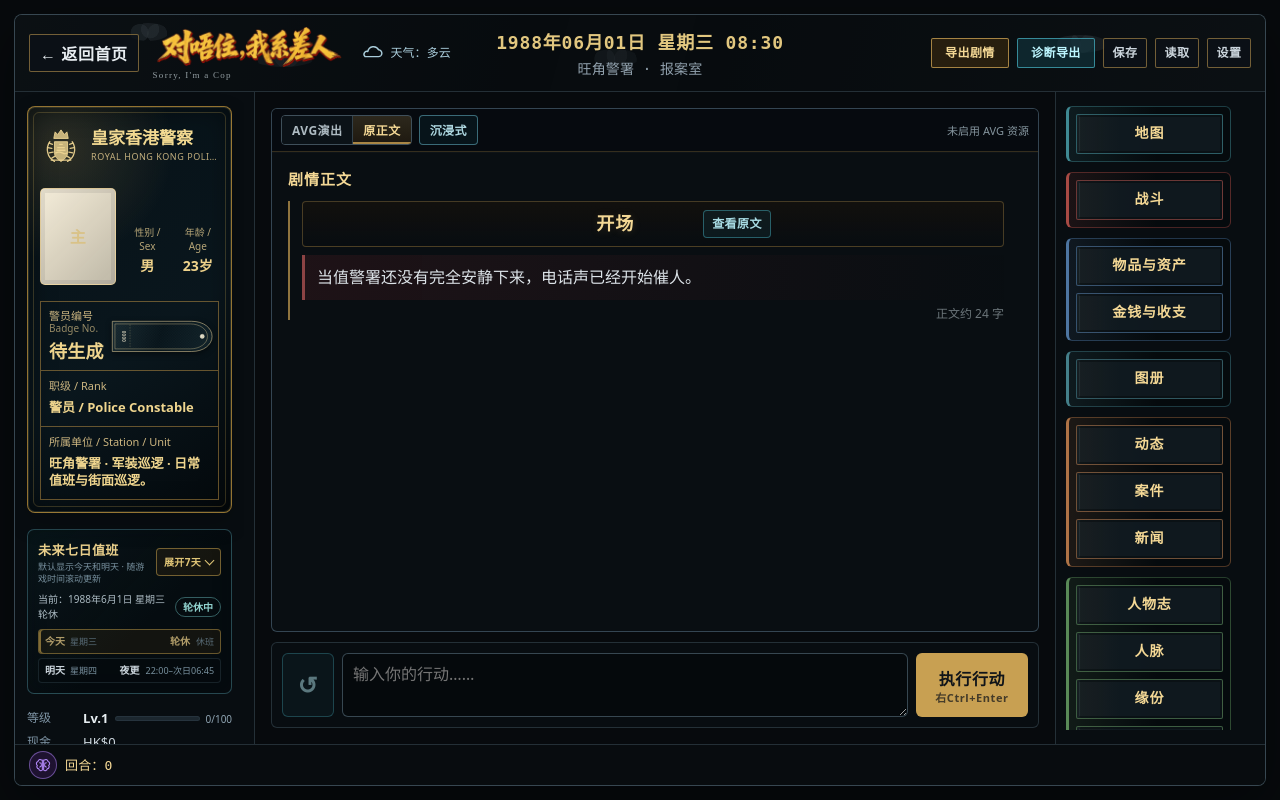
it: GameScreen right panel › opens the AI process trace from the brain button beside the turn counter
Expected: the element "AI 处理轨迹" is not shown
Click the button named "查看 AI 处理轨迹".
click(43, 765)  # box x1=29 y1=751 x2=57 y2=779
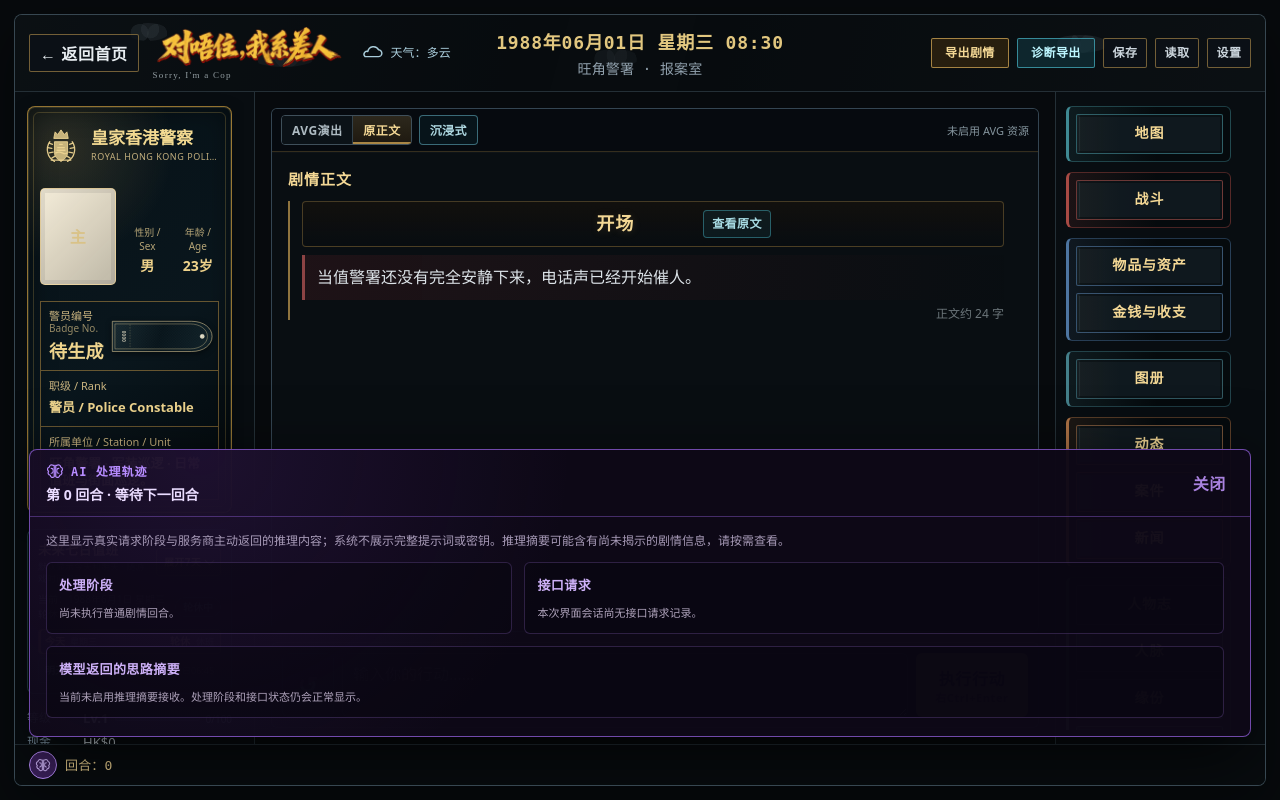
Expected: the element "AI 处理轨迹" is shown, x1=29 y1=449 x2=1251 y2=737
Expected: the text "尚未执行普通剧情回合。" is shown, x1=59 y1=605 x2=180 y2=620
Click the button "关闭".
click(1209, 483)  # box x1=1185 y1=465 x2=1234 y2=501
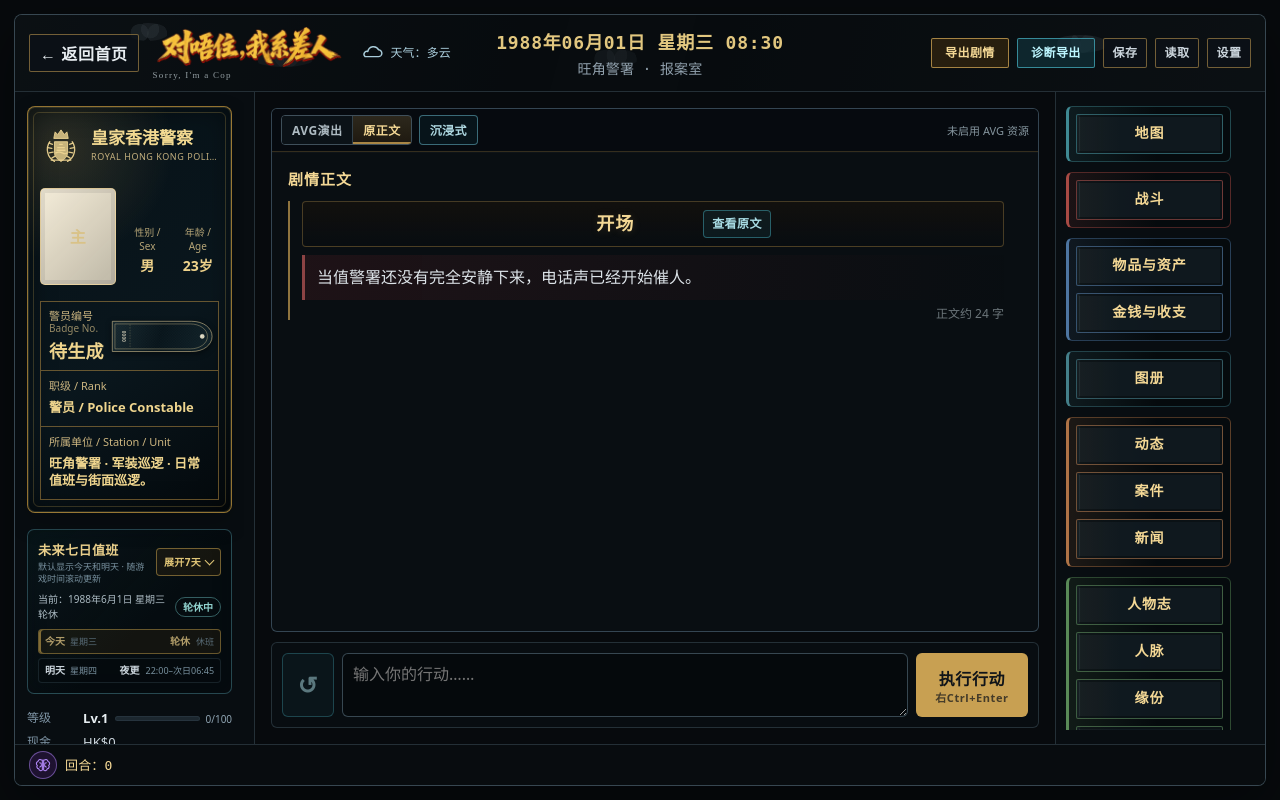
Expected: the element "AI 处理轨迹" is gone
